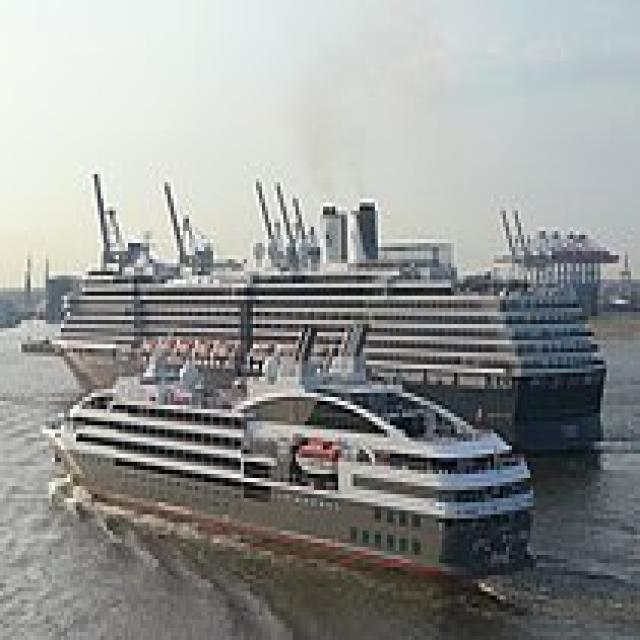Ship: (32, 163, 617, 459), (41, 338, 541, 593)
